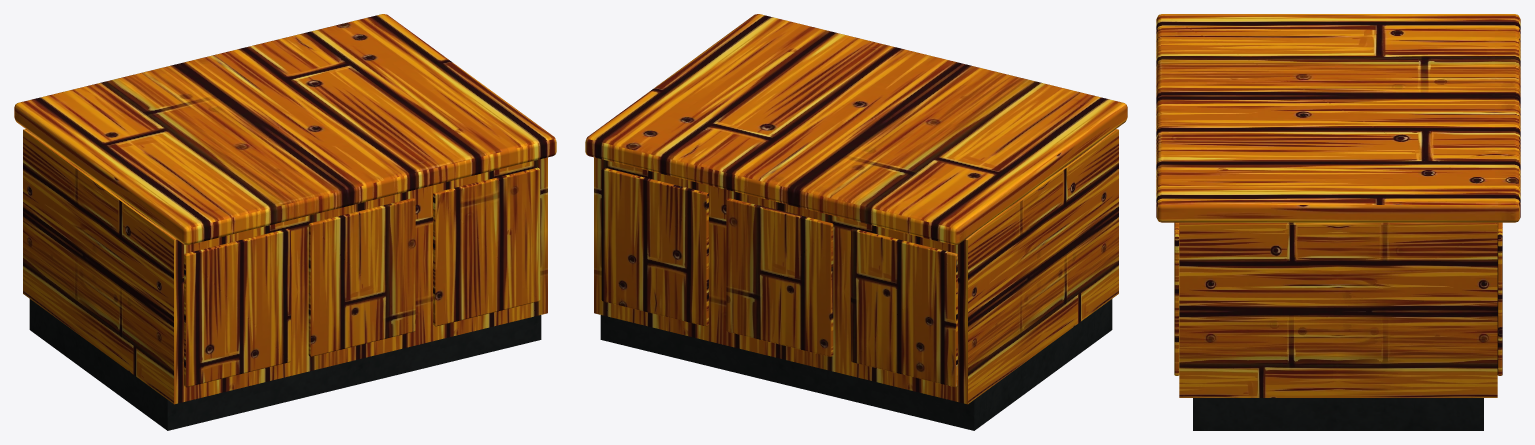
The model's file is prop_shopCounter.glb.
3 renders of one model, left to right at view 1: azimuth 30°, elevation 25°; view 2: azimuth 150°, elevation 25°; view 3: azimuth 270°, elevation 25°, orthographic. The views are drawn at different scales.
Parts seen in each view (by area): view 1: prop; view 2: prop; view 3: prop.
Part boxes in pixels (left/top/right/bottom): prop: left=14, top=14, right=556, bottom=430; prop: left=585, top=14, right=1127, bottom=430; prop: left=1156, top=14, right=1520, bottom=430.
Bounding box in the file's own units: 1 × 0.55 × 0.8.
3 materials, 3 textured.
